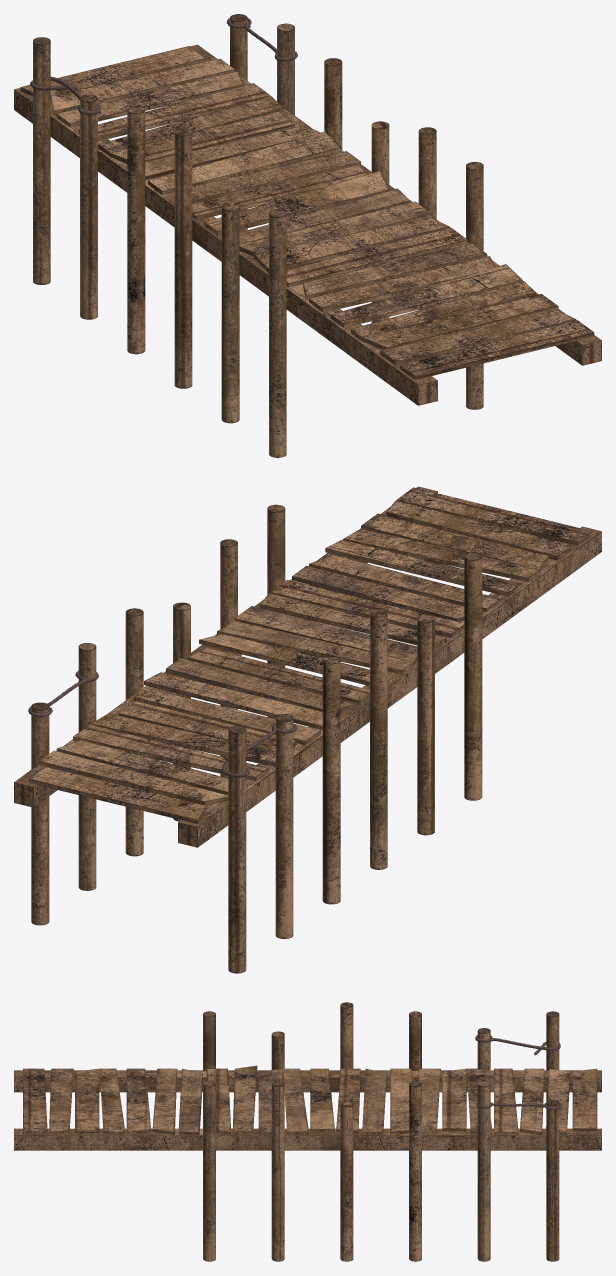
Rendered from dock.glb.
3 views of the same model, one above another, from view 1: azimuth 30°, elevation 25°; view 2: azimuth 150°, elevation 25°; view 3: azimuth 270°, elevation 25° (orthographic). The views are drawn at different scales.
Parts seen in each view (by area): view 1: Cube.010, Cube.008, Cube, Cube.012, Cube.016, Cube.009, Cube.013, Cube.011, Cylinder, Cylinder.003, Cylinder.002, Cylinder.001 (+2 smaller); view 2: Cube.010, Cube, Cube.008, Cube.016, Cube.013, Cube.012, Cube.011, Cube.009, Cylinder.005, Cylinder.004, Cylinder.003, Cylinder (+2 smaller); view 3: Cube, Cube.010, Cube.012, Cube.009, Cube.008, Cube.013, Cube.016, Cube.011, Cylinder.002, Cylinder.003, Cylinder, Cylinder.001 (+3 smaller).
Boxes of the visible parts, <box> form: Cube.010: <box>20,46,558,349</box>; Cube.008: <box>148,131,594,379</box>; Cube: <box>14,44,601,405</box>; Cube.012: <box>78,83,522,327</box>; Cube.016: <box>50,58,487,299</box>; Cube.009: <box>145,125,576,365</box>; Cube.013: <box>56,71,494,312</box>; Cube.011: <box>98,96,536,340</box>; Cylinder: <box>269,162,483,457</box>; Cylinder.003: <box>127,58,342,354</box>; Cylinder.002: <box>174,121,389,388</box>; Cylinder.001: <box>221,127,436,423</box>; Cube.010: <box>29,513,548,823</box>; Cube: <box>14,486,601,847</box>; Cube.008: <box>144,487,592,729</box>; Cube.016: <box>39,565,483,805</box>; Cube.013: <box>56,555,500,794</box>; Cube.012: <box>73,539,521,781</box>; Cube.011: <box>90,528,539,766</box>; Cube.009: <box>133,500,573,745</box>; Cylinder.005: <box>31,702,246,973</box>; Cylinder.004: <box>78,643,293,938</box>; Cylinder.003: <box>125,608,340,904</box>; Cylinder: <box>267,504,482,800</box>; Cube: <box>14,1070,601,1150</box>; Cube.010: <box>75,1068,597,1134</box>; Cube.012: <box>126,1068,518,1134</box>; Cube.009: <box>49,1065,440,1134</box>; Cube.008: <box>23,1068,412,1134</box>; Cube.013: <box>152,1068,544,1134</box>; Cube.016: <box>178,1068,570,1134</box>; Cube.011: <box>99,1068,492,1134</box>; Cylinder.002: <box>340,1002,353,1261</box>; Cylinder.003: <box>409,1011,421,1261</box>; Cylinder: <box>203,1011,215,1261</box>; Cylinder.001: <box>271,1031,284,1261</box>.
Size of the model in its own units: 8.04 by 8.9 by 25.78.
1 material, 1 textured.
